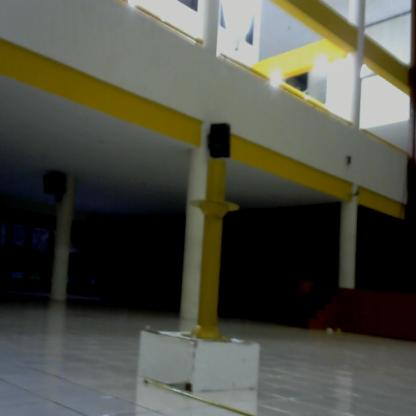pole: (180, 163, 235, 345)
